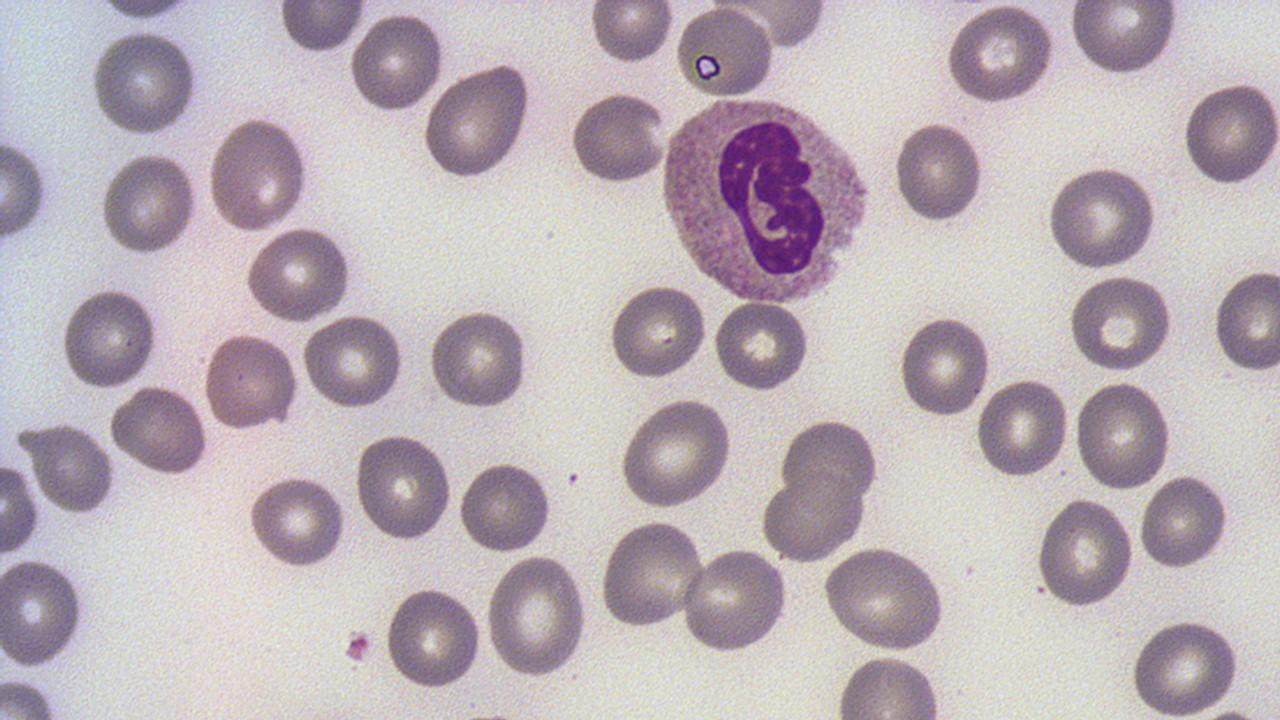RBC: (482, 550, 590, 681), (820, 545, 948, 652), (618, 394, 735, 510), (423, 60, 534, 181), (207, 113, 311, 234), (1044, 163, 1160, 270), (89, 29, 202, 137), (598, 516, 706, 628), (682, 546, 792, 654), (1035, 494, 1135, 610), (1128, 616, 1244, 716), (944, 4, 1056, 106), (353, 430, 453, 544), (1073, 378, 1173, 491), (428, 304, 532, 412), (97, 150, 200, 258), (382, 583, 485, 691), (1068, 271, 1176, 373), (243, 226, 355, 324), (1182, 77, 1278, 190), (896, 310, 992, 421), (201, 330, 303, 433), (59, 286, 159, 391), (302, 312, 406, 412), (890, 118, 986, 226), (606, 282, 710, 381), (974, 375, 1071, 481), (348, 10, 446, 114), (245, 472, 347, 571), (712, 296, 814, 394), (0, 554, 85, 670), (566, 91, 668, 187), (776, 416, 884, 506), (761, 473, 870, 562), (673, 7, 777, 99), (456, 458, 555, 554), (1138, 471, 1232, 572), (109, 384, 209, 477), (21, 419, 117, 514), (1068, 1, 1180, 77), (830, 653, 948, 717), (1213, 264, 1279, 374), (588, 1, 674, 67), (1, 134, 50, 242), (276, 1, 368, 56), (0, 460, 42, 556), (89, 0, 197, 23)
WBC: (656, 90, 882, 304)
